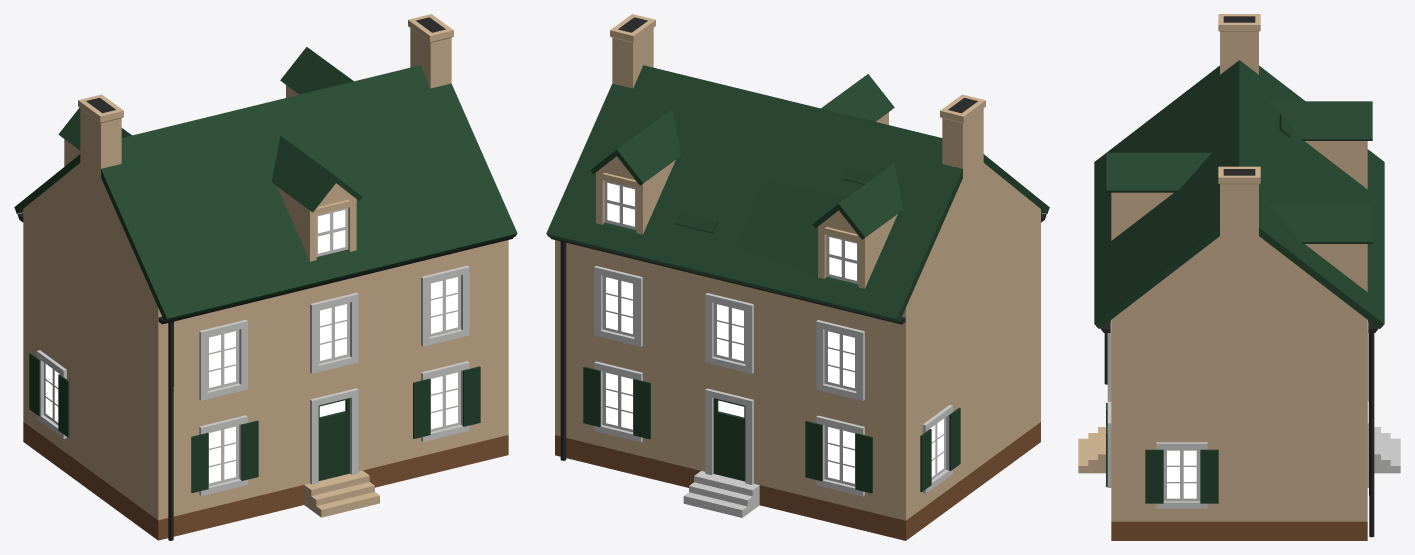
The model's file is buildings-building-house-middle.glb.
3 views of the same model, side by side, from view 1: azimuth 30°, elevation 25°; view 2: azimuth 150°, elevation 25°; view 3: azimuth 270°, elevation 25° (orthographic). The views are drawn at different scales.
Visible parts, largest first — view 1: building-house-middle; view 2: building-house-middle; view 3: building-house-middle.
Boxes of the visible parts, <box> form: building-house-middle: <box>14,14,517,540</box>; building-house-middle: <box>546,14,1049,540</box>; building-house-middle: <box>1078,14,1400,540</box>.
Size of the model in its own units: 9.72 by 9.88 by 7.92.
